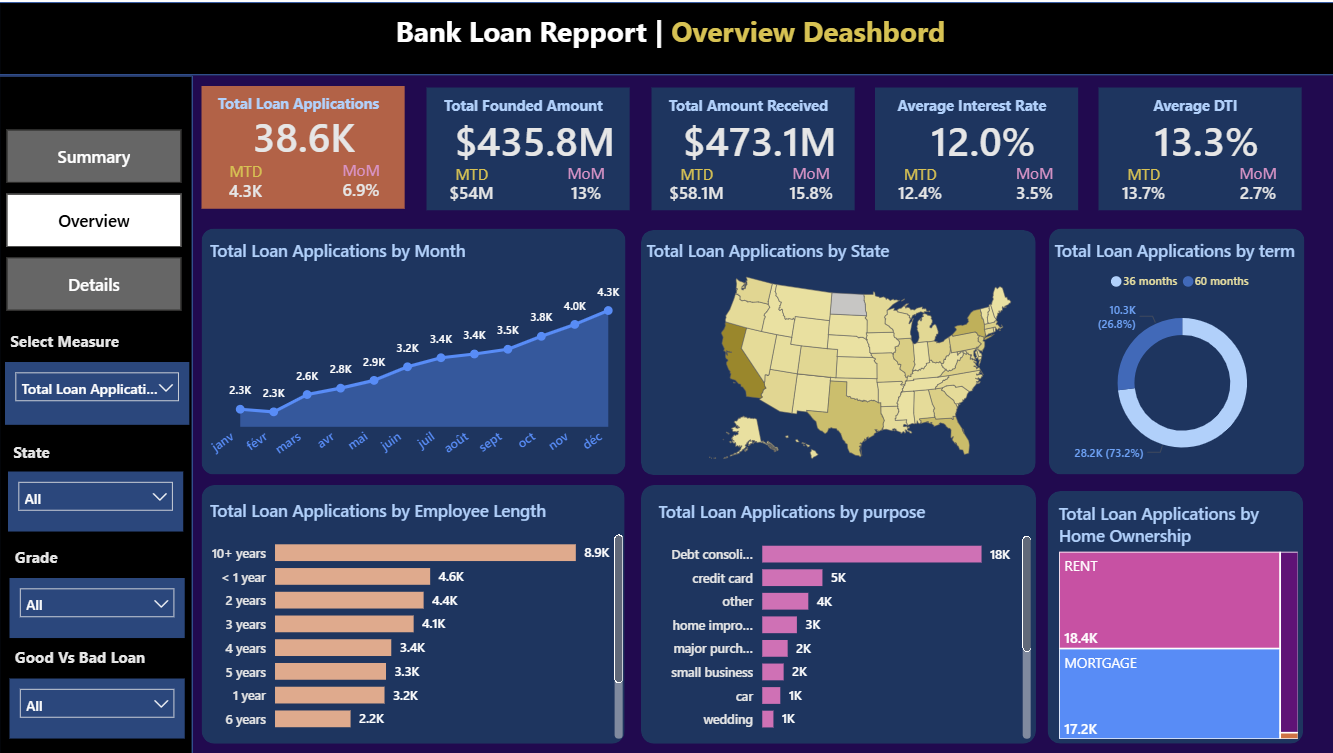

This screenshot's page, from the dashboard's own definition file:
{"tool":"powerbi","page":{"name":"Overview","canvas":[1280,720],"ordinal":1},"visuals":[{"type":"shape","box":[0,0,1280,70],"z":0},{"type":"shape","box":[194.3,80.5,194.3,117.2],"z":0,"group":"g4"},{"type":"shape","box":[408.3,81.1,194.3,117.2],"z":0,"group":"g1"},{"type":"shape","box":[623.8,81.1,194.3,117.2],"z":0,"group":"g2"},{"type":"shape","box":[837.2,81.1,194.3,117.2],"z":0,"group":"g5"},{"type":"shape","box":[1050.8,82.2,194.3,117.2],"z":0,"group":"g3"},{"type":"shape","box":[0,70,185,650],"z":1000},{"type":"cardVisual","fields":{"Data":["Loan Mesures.Total Loan Amount"]},"box":[397.8,89.1,227,79],"z":1000,"group":"g1"},{"type":"cardVisual","fields":{"Data":["Loan Mesures.Total Amount Received"]},"box":[613.3,89.1,227,79],"z":1000,"group":"g2"},{"type":"cardVisual","fields":{"Data":["Loan Mesures.Avg Interest Rate"]},"box":[826.7,89.1,227,79],"z":1000,"group":"g5"},{"type":"cardVisual","fields":{"Data":["Loan Mesures.Avg DTI"]},"box":[1040.3,90.2,227,79],"z":1000,"group":"g3"},{"type":"cardVisual","title":"MoM","fields":{"Data":["Loan Mesures.MoM Loan Applications"]},"box":[304,151,84,46],"z":1000,"group":"g4"},{"type":"textbox","box":[374,4,598,66],"z":2000},{"type":"textbox","box":[397.8,82.4,205,28.8],"z":2000,"group":"g1"},{"type":"textbox","box":[613.3,82.4,205,28.8],"z":2000,"group":"g2"},{"type":"textbox","box":[826.7,82.4,205,28.8],"z":2000,"group":"g5"},{"type":"textbox","box":[1040.3,83.5,205,28.8],"z":2000,"group":"g3"},{"type":"cardVisual","fields":{"Data":["bank_loan_data.Total Loan Applications"]},"box":[195,86.8,193.5,80],"z":2000,"group":"g4"},{"type":"textbox","box":[183.8,81.8,205,28.8],"z":3000,"group":"g4"},{"type":"cardVisual","title":"MTD","fields":{"Data":["Loan Mesures.MTD Founded Amount"]},"box":[408.6,153.6,83.3,45],"z":3000,"group":"g1"},{"type":"cardVisual","title":"MTD","fields":{"Data":["Loan Mesures.MTD Amount Received"]},"box":[624.1,153.6,83.3,45],"z":3000,"group":"g2"},{"type":"cardVisual","title":"MTD","fields":{"Data":["Loan Mesures.MTD Avg Interest Rate"]},"box":[837.5,153.6,83.3,45],"z":3000,"group":"g5"},{"type":"cardVisual","title":"MTD","fields":{"Data":["Loan Mesures.MTD Avg DTI"]},"box":[1051.1,154.7,83.3,45],"z":3000,"group":"g3"},{"type":"shape","box":[194,216,405,235],"z":3000},{"type":"group","id":"g1","title":"Group 2","box":[397.8,81.1,227,117.5],"z":4000},{"type":"cardVisual","title":"MoM","fields":{"Data":["Loan Mesures.MoM Founded Amount"]},"box":[518.8,152.1,84,46],"z":4000,"group":"g1"},{"type":"cardVisual","title":"MoM","fields":{"Data":["Loan Mesures.MoM Amount Received"]},"box":[734.3,152.1,84,46],"z":4000,"group":"g2"},{"type":"cardVisual","title":"MoM","fields":{"Data":["Loan Mesures.MoM Avg Interest Rate"]},"box":[947.7,152.1,84,46],"z":4000,"group":"g5"},{"type":"cardVisual","title":"MTD","fields":{"Data":["Loan Mesures.MTD Loan Applications"]},"box":[194,152.4,84.2,45.8],"z":4000,"group":"g4"},{"type":"cardVisual","title":"MoM","fields":{"Data":["Loan Mesures.MoM Avg DTI"]},"box":[1161.3,153.2,84,46],"z":4000,"group":"g3"},{"type":"group","id":"g2","title":"Group 2","box":[613.3,81.1,227.8,117.8],"z":5000},{"type":"group","id":"g3","title":"Group 2","box":[1040.3,82.2,227,117.5],"z":6000},{"type":"group","id":"g4","title":"Group 1","box":[183.8,80.5,205,117.7],"z":7000},{"type":"group","id":"g5","title":"Group 2","box":[826.7,81.1,226.7,118.9],"z":8000},{"type":"slicer","fields":{"Values":["bank_loan_data.address_state"]},"box":[8.1,449,167.1,57.1],"z":9000},{"type":"textbox","box":[8.1,413.3,185.7,35.7],"z":10000},{"type":"slicer","fields":{"Values":["bank_loan_data.grade"]},"box":[9.5,549.5,167.1,57.1],"z":11000},{"type":"textbox","box":[9.5,513.8,185.7,35.7],"z":12000},{"type":"slicer","fields":{"Values":["bank_loan_data.good vs bad loan"]},"box":[9.5,645.7,167.1,57.1],"z":13000},{"type":"textbox","box":[9.5,610,185.7,35.7],"z":14000},{"type":"areaChart","fields":{"Y":["Loan Mesures.Total Loan Applications"],"Category":["Date Table.Month"]},"box":[196,226,403,226],"z":15000},{"type":"slicer","fields":{"Values":["Select Measure.Select Measure"]},"box":[5.1,343.8,176,60],"z":16000},{"type":"textbox","box":[5.1,307.8,158,36],"z":17000},{"type":"shape","box":[613,218,377,234],"z":18000},{"type":"shapeMap","fields":{"Value":["Loan Mesures.Total Loan Applications"],"Category":["bank_loan_data.address_state"]},"box":[613,226,418,224],"z":19000},{"type":"shape","box":[1002,216,244,235],"z":20000},{"type":"donutChart","fields":{"Y":["Loan Mesures.Total Loan Applications"],"Category":["bank_loan_data.term"]},"box":[1002,226,254,226],"z":21000},{"type":"shape","box":[192.9,461.4,404.3,247.1],"z":22000},{"type":"barChart","fields":{"Y":["Loan Mesures.Total Loan Applications"],"Category":["bank_loan_data.emp_length"]},"box":[195.7,474.3,404.3,234.3],"z":23000},{"type":"shape","box":[612.9,461.4,377.1,247.1],"z":24000},{"type":"barChart","fields":{"Y":["Loan Mesures.Total Loan Applications"],"Category":["bank_loan_data.purpose"]},"box":[624.3,475.7,365.7,232.9],"z":25000},{"type":"shape","box":[1001.4,467.1,244.3,241.4],"z":26000},{"type":"treemap","fields":{"Values":["Loan Mesures.Total Loan Applications"],"Group":["bank_loan_data.home_ownership"]},"box":[1007.1,477.1,238.6,231.4],"z":27000},{"type":"pageNavigator","box":[7.1,121.4,167.1,175.7],"z":28000}]}

Visuals, with their boxes in screenshot pixels (x1, y1, x2, y2), scaled from the page's 1280x720 canvas onto the 1333x753 screenshot:
shape: <bbox>0, 0, 1332, 73</bbox>
shape: <bbox>202, 84, 405, 207</bbox>
shape: <bbox>425, 85, 628, 207</bbox>
shape: <bbox>650, 85, 852, 207</bbox>
shape: <bbox>872, 85, 1074, 207</bbox>
shape: <bbox>1094, 86, 1297, 209</bbox>
shape: <bbox>0, 73, 193, 752</bbox>
cardVisual - Loan Mesures.Total Loan Amount: <bbox>414, 93, 651, 176</bbox>
cardVisual - Loan Mesures.Total Amount Received: <bbox>639, 93, 875, 176</bbox>
cardVisual - Loan Mesures.Avg Interest Rate: <bbox>861, 93, 1097, 176</bbox>
cardVisual - Loan Mesures.Avg DTI: <bbox>1083, 94, 1320, 177</bbox>
"MoM" cardVisual: <bbox>317, 158, 404, 206</bbox>
textbox: <bbox>389, 4, 1012, 73</bbox>
textbox: <bbox>414, 86, 628, 116</bbox>
textbox: <bbox>639, 86, 852, 116</bbox>
textbox: <bbox>861, 86, 1074, 116</bbox>
textbox: <bbox>1083, 87, 1297, 117</bbox>
cardVisual - bank_loan_data.Total Loan Applications: <bbox>203, 91, 405, 174</bbox>
textbox: <bbox>191, 86, 405, 116</bbox>
"MTD" cardVisual: <bbox>426, 161, 512, 208</bbox>
"MTD" cardVisual: <bbox>650, 161, 737, 208</bbox>
"MTD" cardVisual: <bbox>872, 161, 959, 208</bbox>
"MTD" cardVisual: <bbox>1095, 162, 1181, 209</bbox>
shape: <bbox>202, 226, 624, 472</bbox>
"Group 2" group: <bbox>414, 85, 651, 208</bbox>
"MoM" cardVisual: <bbox>540, 159, 628, 207</bbox>
"MoM" cardVisual: <bbox>765, 159, 852, 207</bbox>
"MoM" cardVisual: <bbox>987, 159, 1074, 207</bbox>
"MTD" cardVisual: <bbox>202, 159, 290, 207</bbox>
"MoM" cardVisual: <bbox>1209, 160, 1297, 208</bbox>
"Group 2" group: <bbox>639, 85, 876, 208</bbox>
"Group 2" group: <bbox>1083, 86, 1320, 209</bbox>
"Group 1" group: <bbox>191, 84, 405, 207</bbox>
"Group 2" group: <bbox>861, 85, 1097, 209</bbox>
slicer - bank_loan_data.address_state: <bbox>8, 470, 182, 529</bbox>
textbox: <bbox>8, 432, 202, 470</bbox>
slicer - bank_loan_data.grade: <bbox>10, 575, 184, 634</bbox>
textbox: <bbox>10, 537, 203, 575</bbox>
slicer - bank_loan_data.good vs bad loan: <bbox>10, 675, 184, 735</bbox>
textbox: <bbox>10, 638, 203, 675</bbox>
areaChart - Loan Mesures.Total Loan Applications x Date Table.Month: <bbox>204, 236, 624, 473</bbox>
slicer - Select Measure.Select Measure: <bbox>5, 360, 189, 422</bbox>
textbox: <bbox>5, 322, 170, 360</bbox>
shape: <bbox>638, 228, 1031, 473</bbox>
shapeMap - Loan Mesures.Total Loan Applications x bank_loan_data.address_state: <bbox>638, 236, 1074, 471</bbox>
shape: <bbox>1043, 226, 1298, 472</bbox>
donutChart - Loan Mesures.Total Loan Applications x bank_loan_data.term: <bbox>1043, 236, 1308, 473</bbox>
shape: <bbox>201, 483, 622, 741</bbox>
barChart - Loan Mesures.Total Loan Applications x bank_loan_data.emp_length: <bbox>204, 496, 625, 741</bbox>
shape: <bbox>638, 483, 1031, 741</bbox>
barChart - Loan Mesures.Total Loan Applications x bank_loan_data.purpose: <bbox>650, 498, 1031, 741</bbox>
shape: <bbox>1043, 489, 1297, 741</bbox>
treemap - Loan Mesures.Total Loan Applications x bank_loan_data.home_ownership: <bbox>1049, 499, 1297, 741</bbox>
pageNavigator: <bbox>7, 127, 181, 311</bbox>
